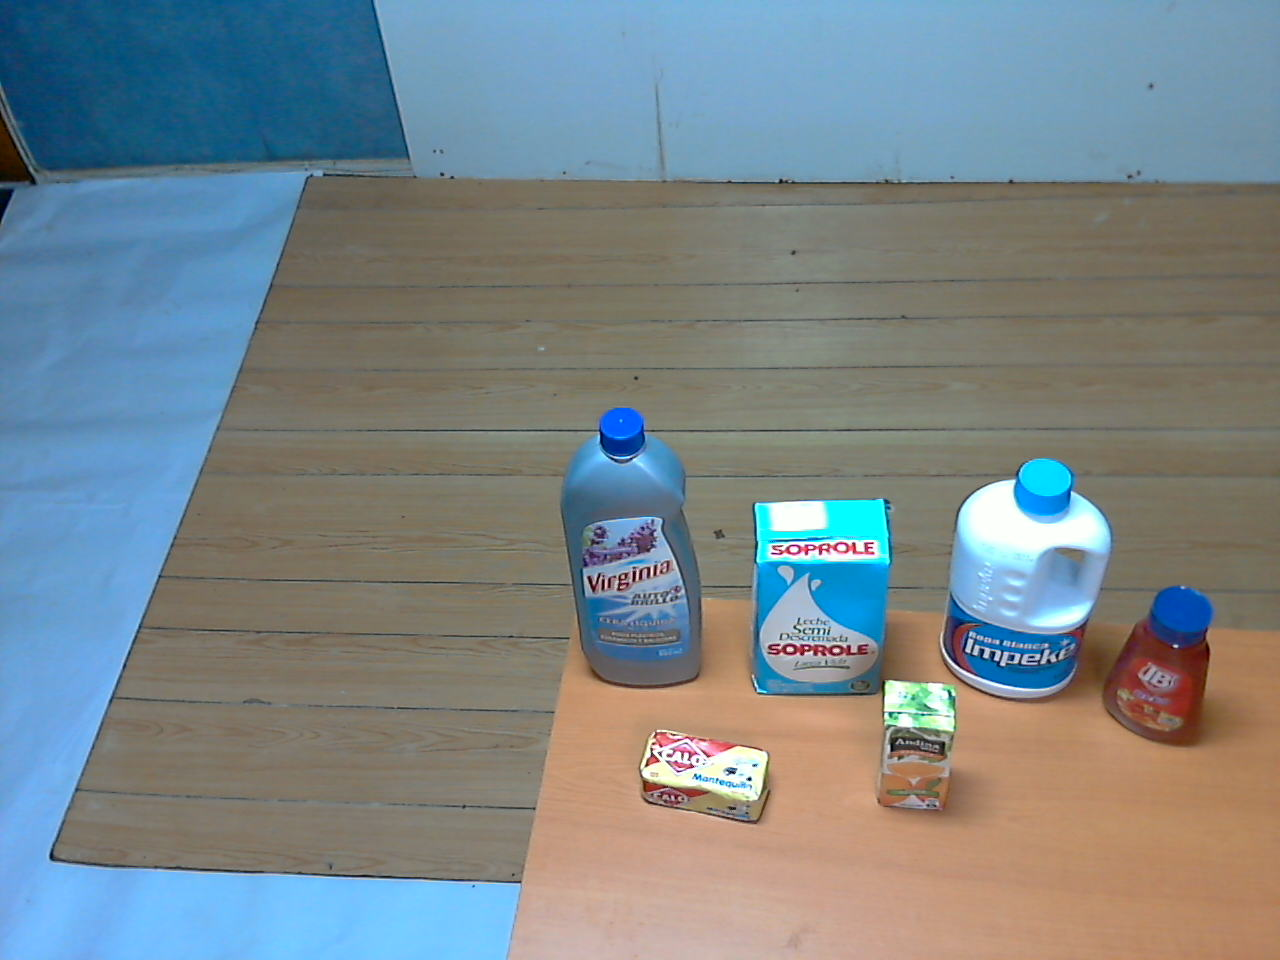cera: (551, 407, 721, 700)
cloro: (930, 448, 1117, 704)
jugoind: (866, 667, 969, 826)
ketchup: (1095, 578, 1220, 751)
leche: (741, 481, 895, 714)
mantequilla: (632, 717, 779, 844)
